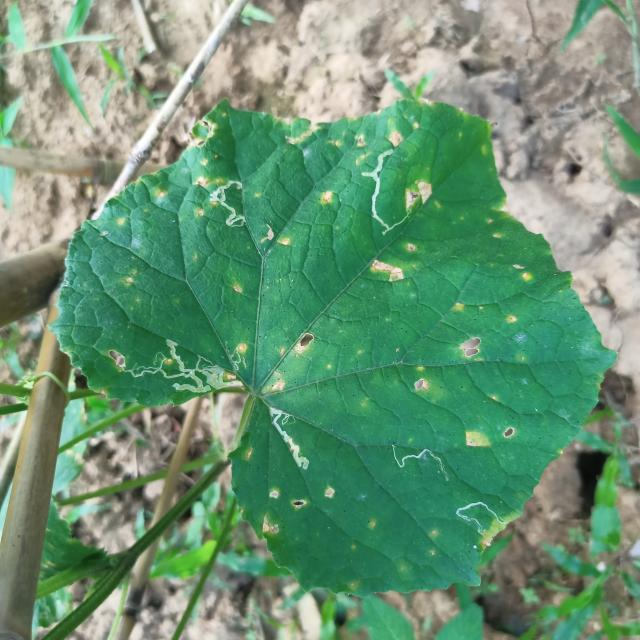disease_cucumber: (262, 483, 337, 541), (284, 124, 373, 166), (382, 99, 438, 148), (182, 120, 222, 188), (370, 245, 420, 283), (464, 426, 518, 451), (403, 181, 435, 213), (455, 332, 485, 366), (263, 359, 288, 398), (258, 224, 294, 249), (290, 326, 315, 354), (411, 366, 432, 394), (485, 215, 503, 245), (512, 263, 532, 284), (318, 186, 337, 206), (124, 272, 140, 288), (155, 187, 168, 201), (237, 343, 249, 356), (225, 372, 237, 382)
